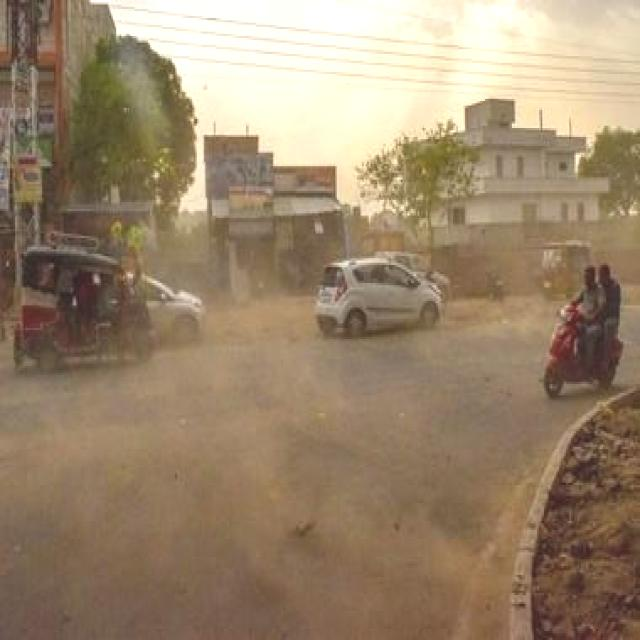Car: (314, 251, 448, 338)
Cycle: (544, 266, 621, 405)
